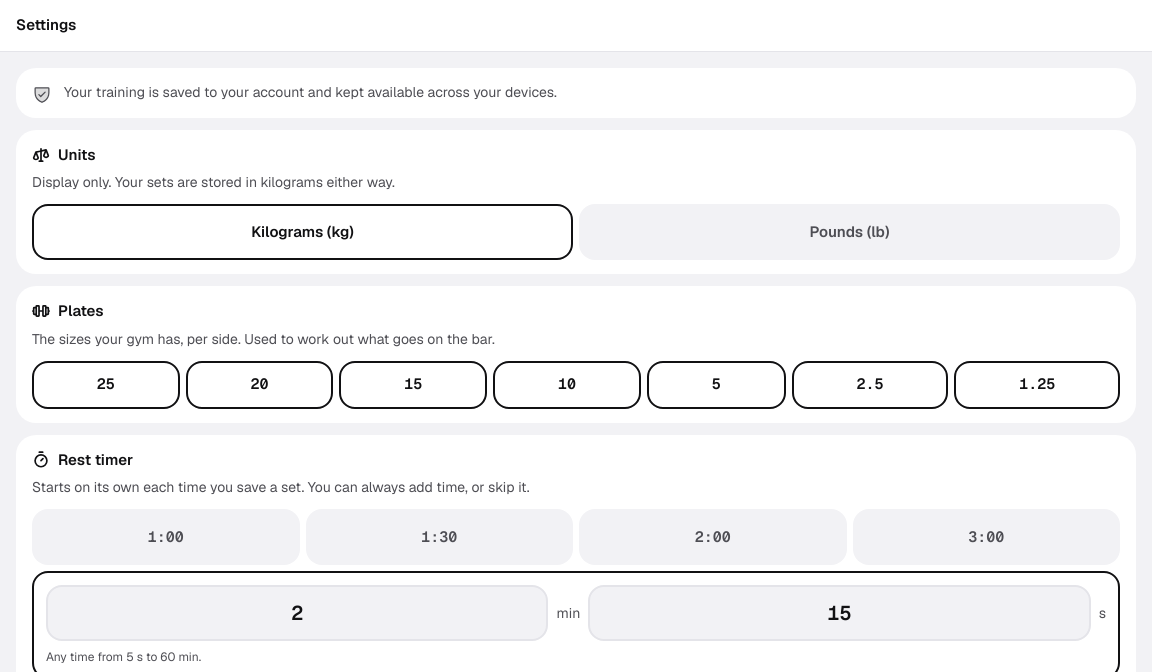
Test: a rest time the presets do not offer › never lands on a rest of zero, however the fields are emptied
This screenshot has width=1152, height=672.
Clear the field named "Rest, minutes" at (297, 613), box left=46, top=585, right=548, bottom=641
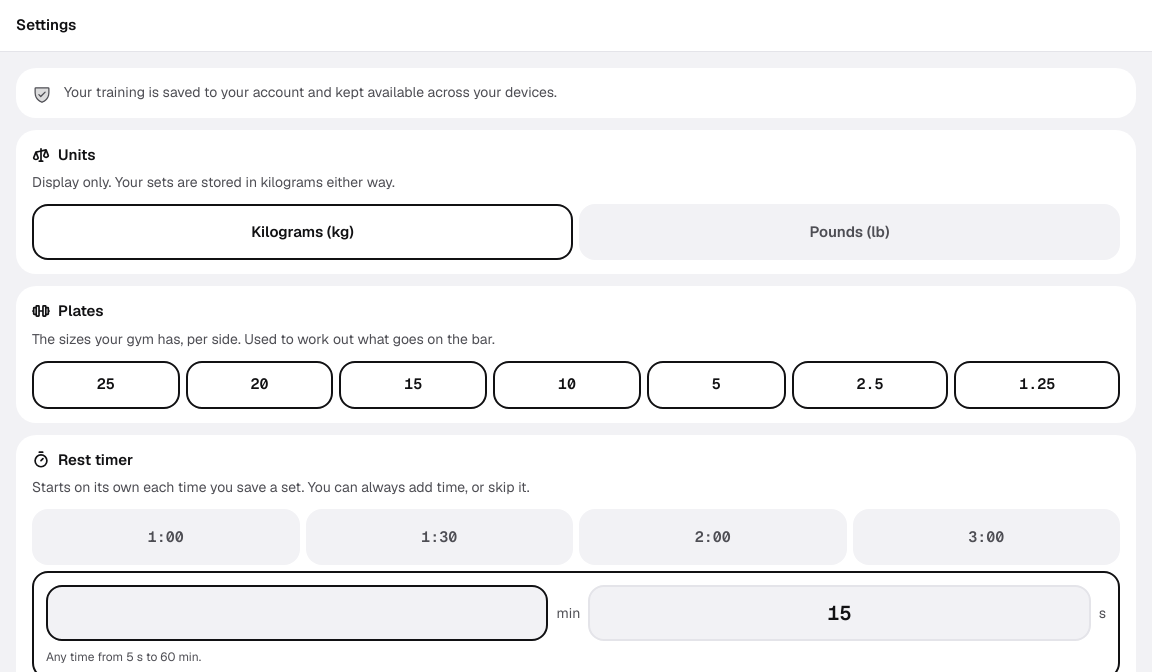
Clear the field named "Rest, seconds" at (840, 613), box left=588, top=585, right=1091, bottom=641
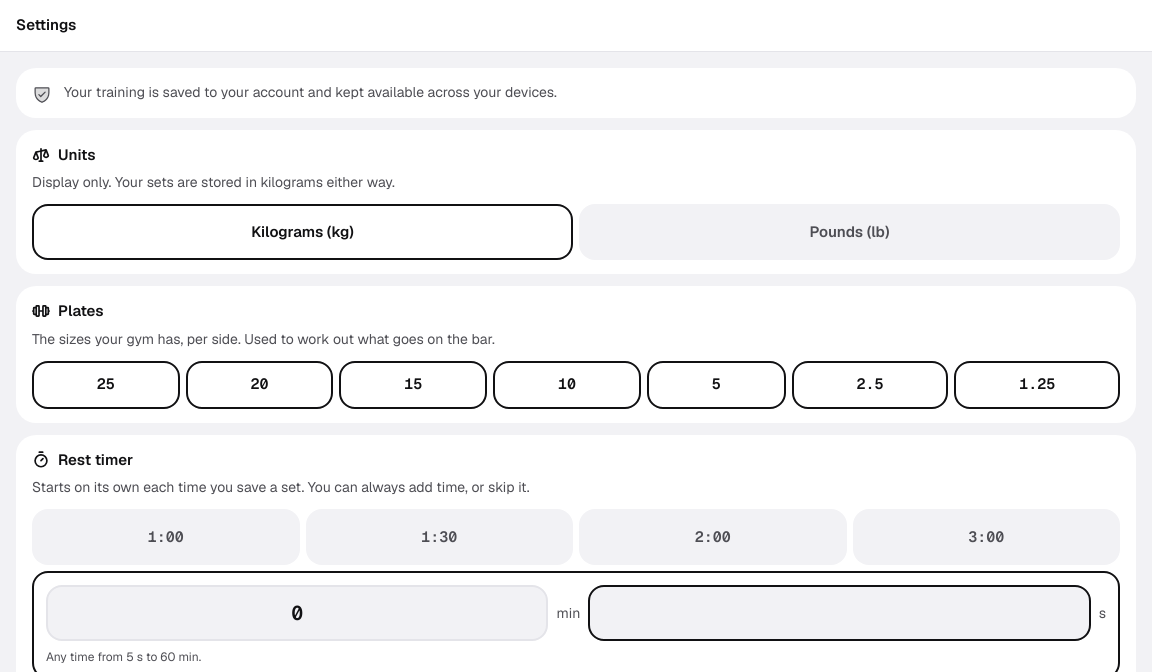
Note: And the fields say what is in force again the moment they are left.
Press Tab
(page scrolled)
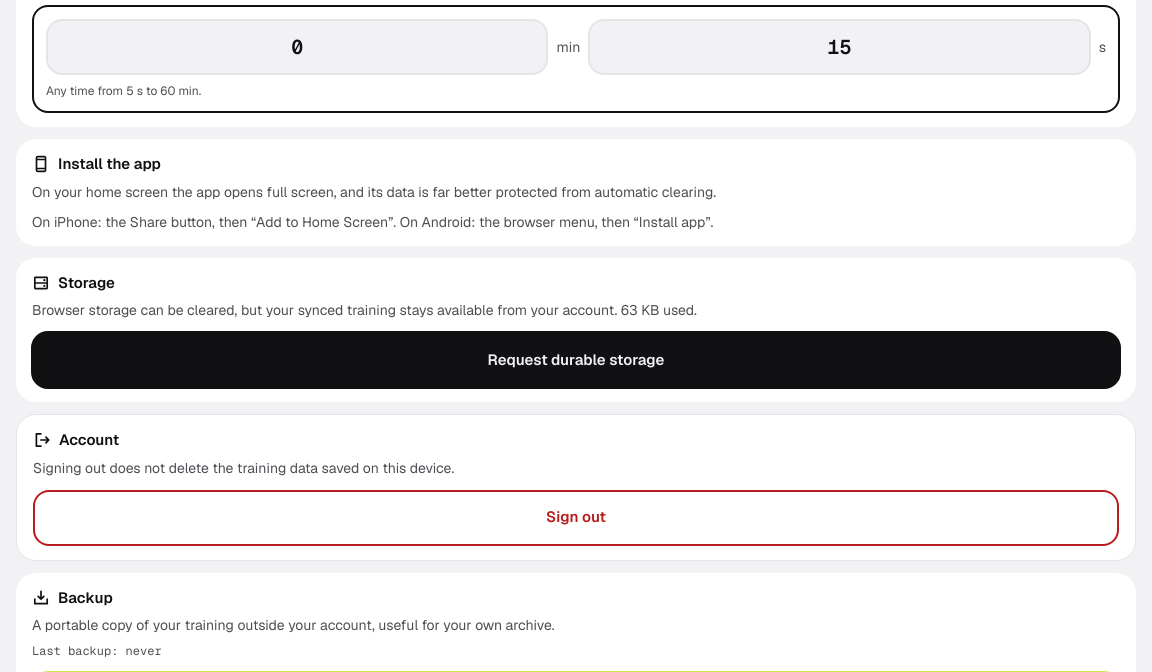
Expected: the field named "Rest, minutes" holds "0", left=46, top=19, right=548, bottom=75
Expected: the field named "Rest, seconds" holds "15", left=588, top=19, right=1091, bottom=75
